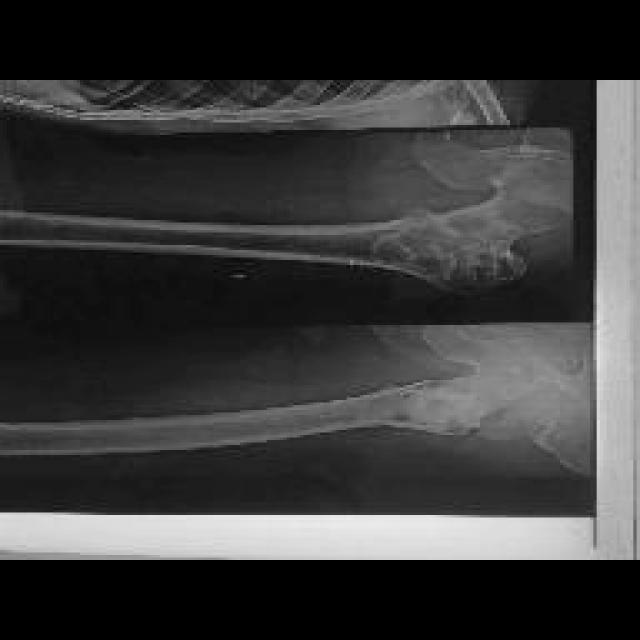bone-cancer: (371, 218, 528, 291)
